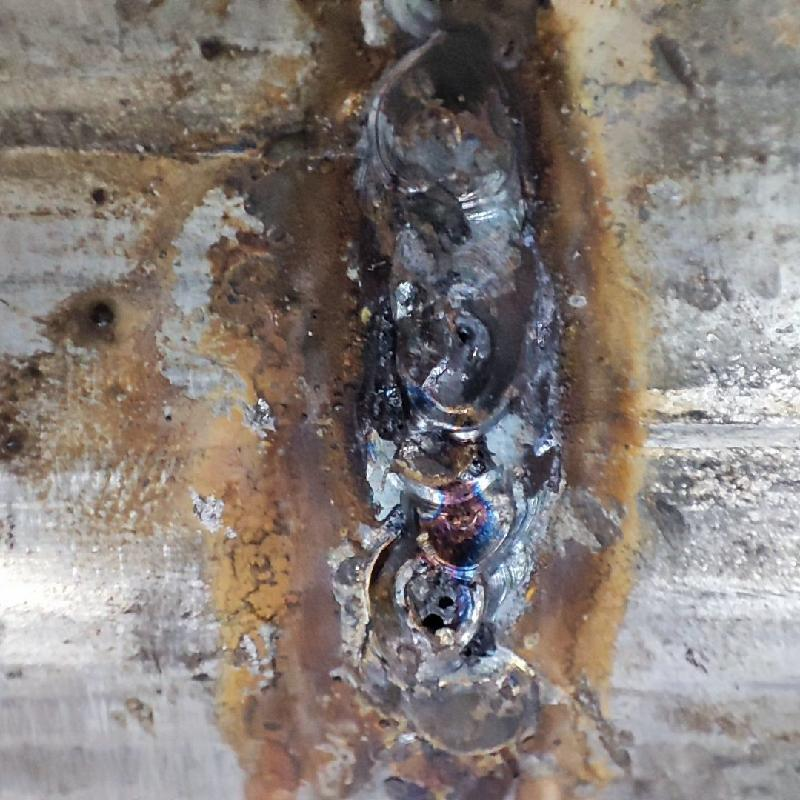Surface_pores: (444, 313, 500, 375)
crater: (360, 298, 558, 788)
wrong_size: (353, 3, 555, 295)
